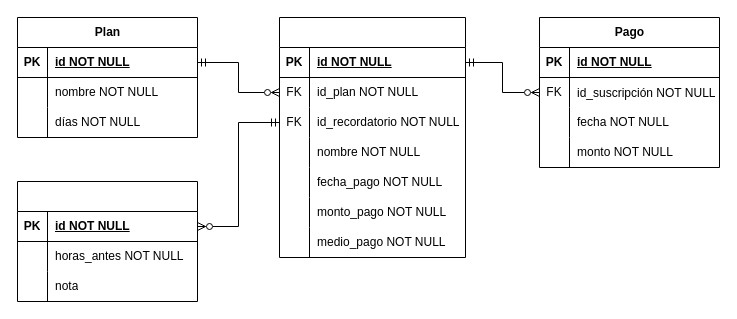
This 737x319 diagram has some shape labels left out. Here are the shapes that lost their labels. From the top down, the box of each, then its label:
(278, 16, 466, 258): Suscripción
(16, 180, 198, 302): Recordatorio
